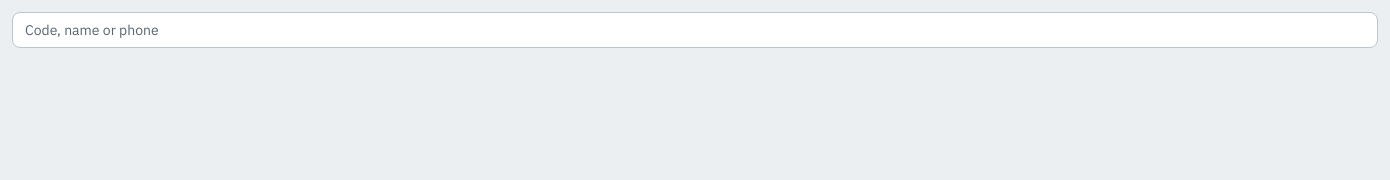
the customer and supplier search from the keyboard (W2-13) › starts on the first result; ↓ ↓ Enter picks the third
Later steps or results of the test are not shown.
Type "khan" into the dropdown named "Customer" at {"x": 695, "y": 30}, box [12, 12, 1378, 48]
Wait 300 ms
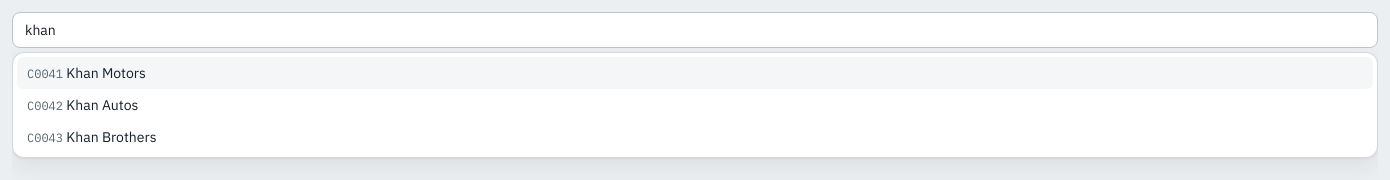
Now the number of options is 3, box [17, 57, 1373, 89]; [27, 96, 138, 114]; [27, 128, 156, 146]
